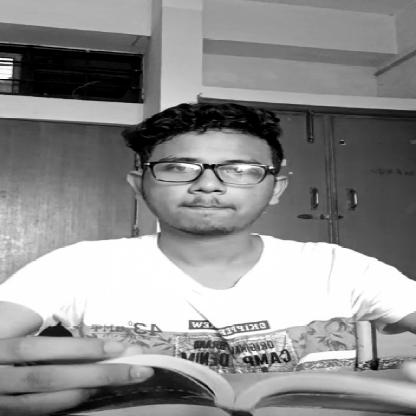Normal: (142, 96, 278, 230)
